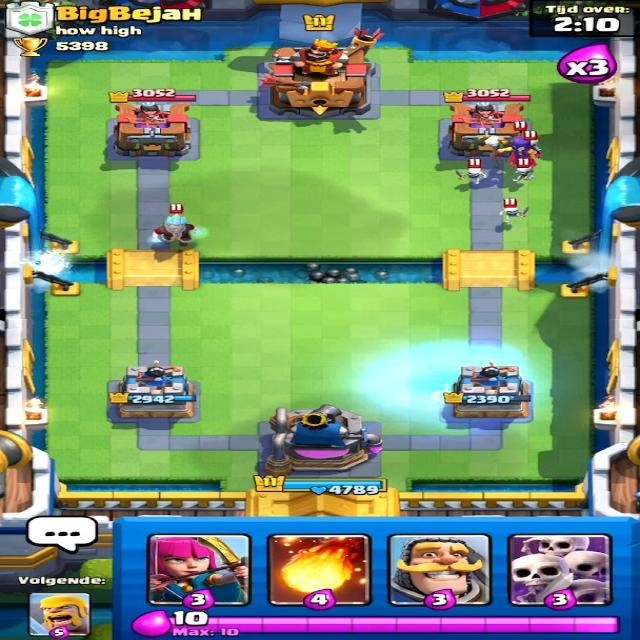Enemy_Ice_Wizard_Troop: (151, 215, 206, 245)
Enemy_Skeleton_Troop: (454, 166, 488, 184), (498, 204, 530, 223), (512, 165, 534, 183)
Enemy_Witch_Troop: (495, 131, 542, 170)
Fireball_Card: (253, 533, 363, 607)
